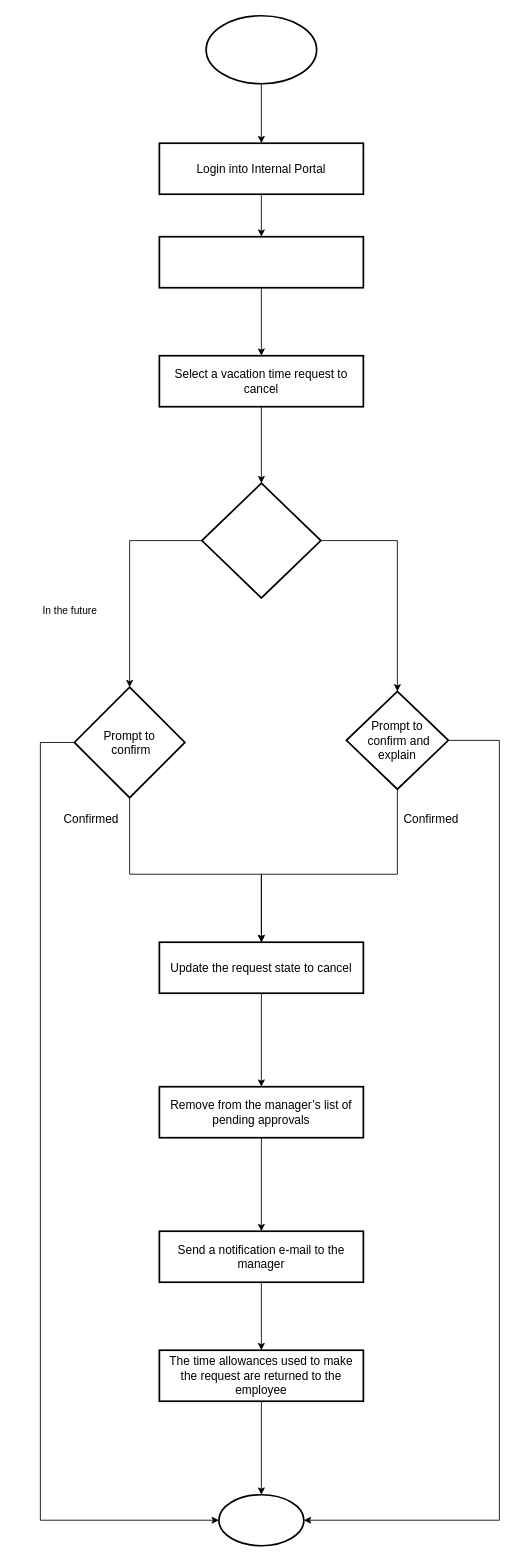
Image size: 521x1561. Some labels were removed from this diagram. The centre of each missing label's shape, as x and y in pixels:
End: the point at 261,1519
Is in the future or recent past?: the point at 261,540
Open VTS: the point at 261,261
Start: the point at 261,49
